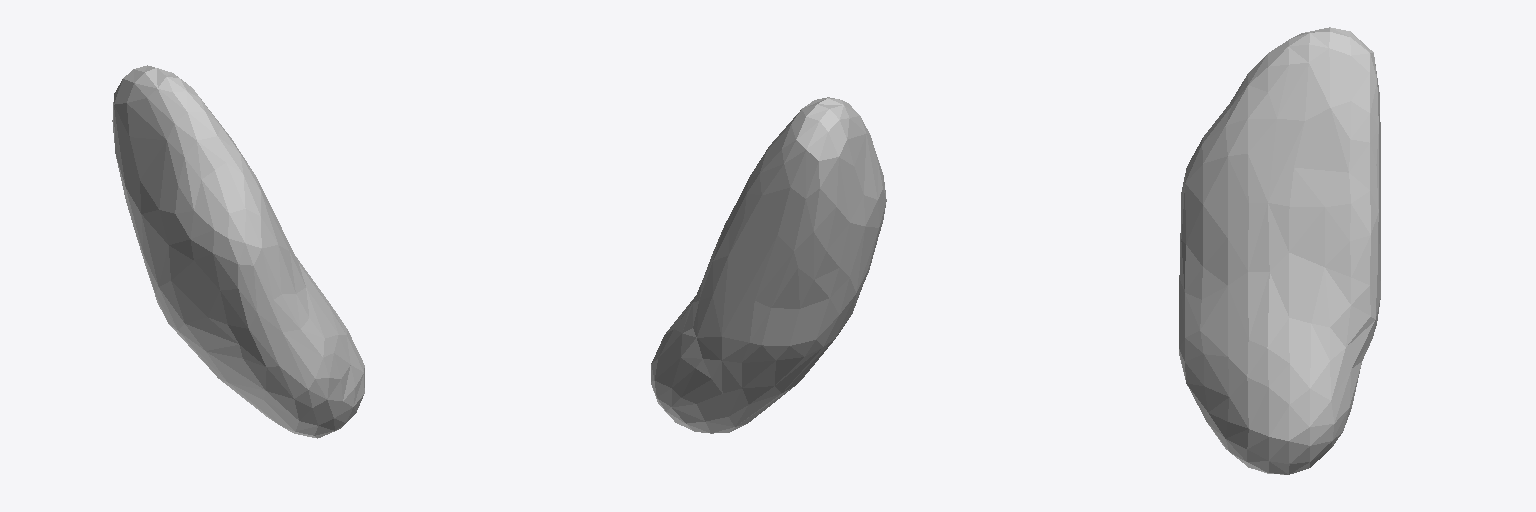
File: right_globus_pallidus.obj
3 views of the same model, side by side, from view 1: azimuth 30°, elevation 25°; view 2: azimuth 150°, elevation 25°; view 3: azimuth 270°, elevation 25° (orthographic).
Parts seen in each view (by area): view 1: right_globus_pallidus_right_globus_pallidus; view 2: right_globus_pallidus_right_globus_pallidus; view 3: right_globus_pallidus_right_globus_pallidus.
Part boxes in pixels (x1,y1,x2,y2): right_globus_pallidus_right_globus_pallidus: (112,65,364,438); right_globus_pallidus_right_globus_pallidus: (651,97,886,433); right_globus_pallidus_right_globus_pallidus: (1179,27,1380,474).
Size of the model in its own units: 1.21 by 2.04 by 0.9908.